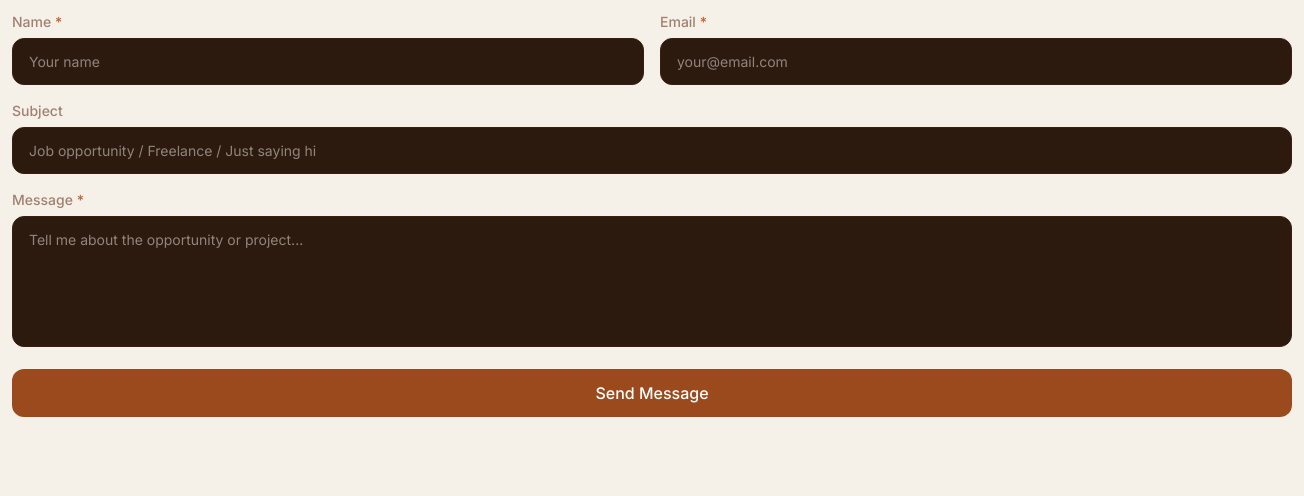
Test case: ContactForm › shows success message after successful submission
Type "Test Recruiter" into the field labelled "Name *" at [328, 62], box [12,38,644,85]
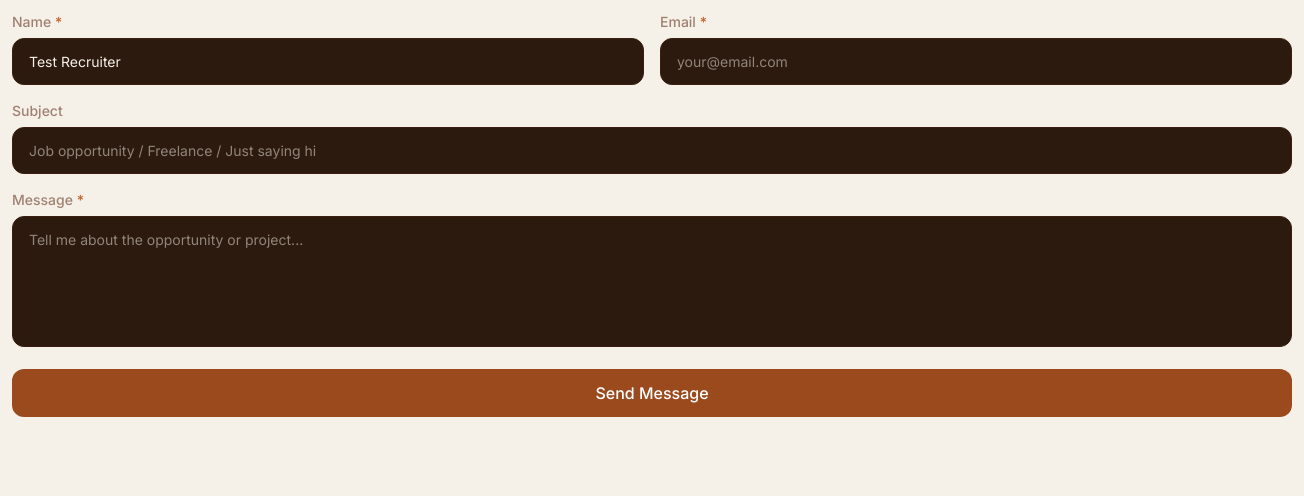
Type "recruiter@company.com" into the field labelled "Email *" at [976, 62], box [660,38,1292,85]
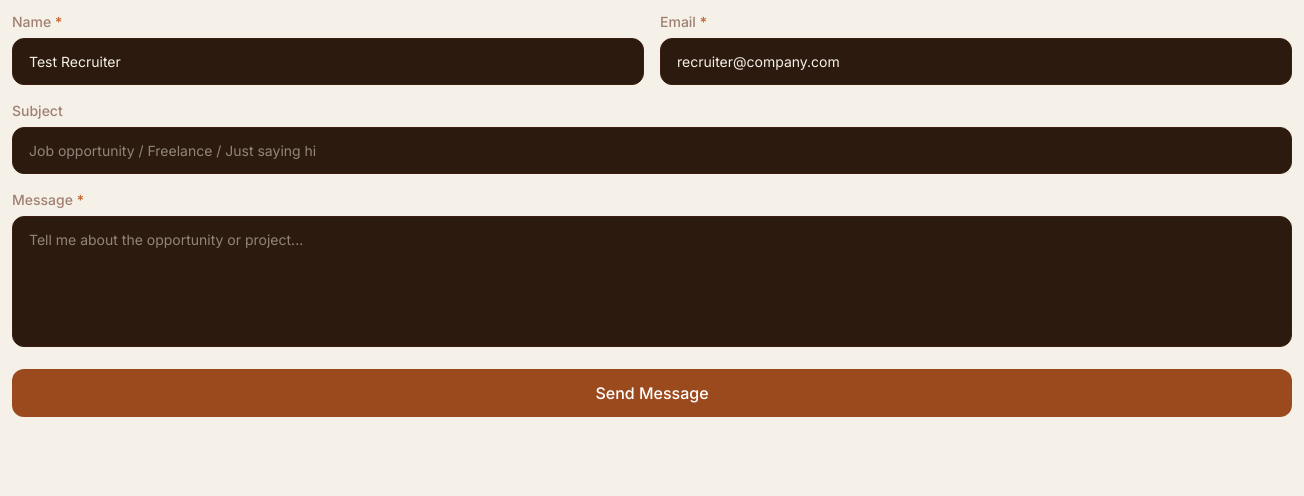
Type "Great opportunity for you" into the text box labelled "Message *" at [652, 282], box [12,216,1292,347]
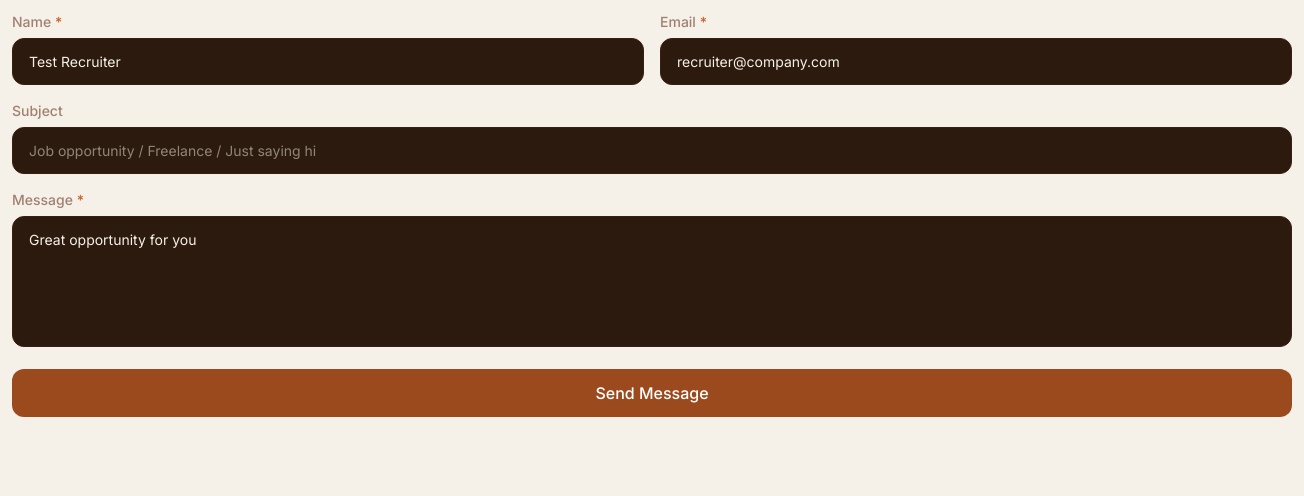
Click the button "Send Message" at [652, 393], box [12,369,1292,417]
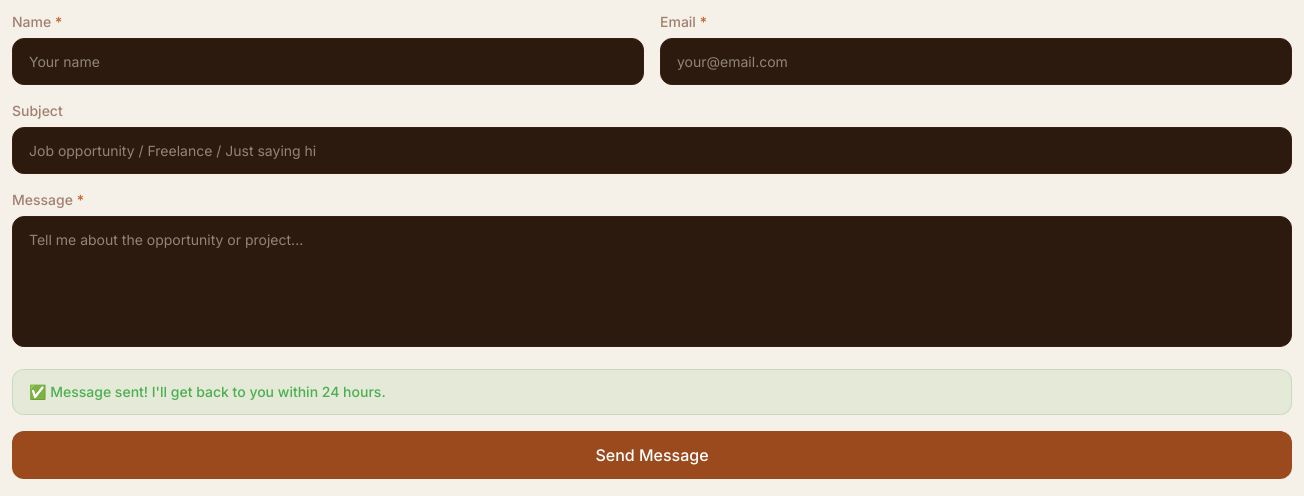
expect the text "✅ Message sent! I'll get back to you within 24 hours." is shown: met, box [12,369,1292,415]
